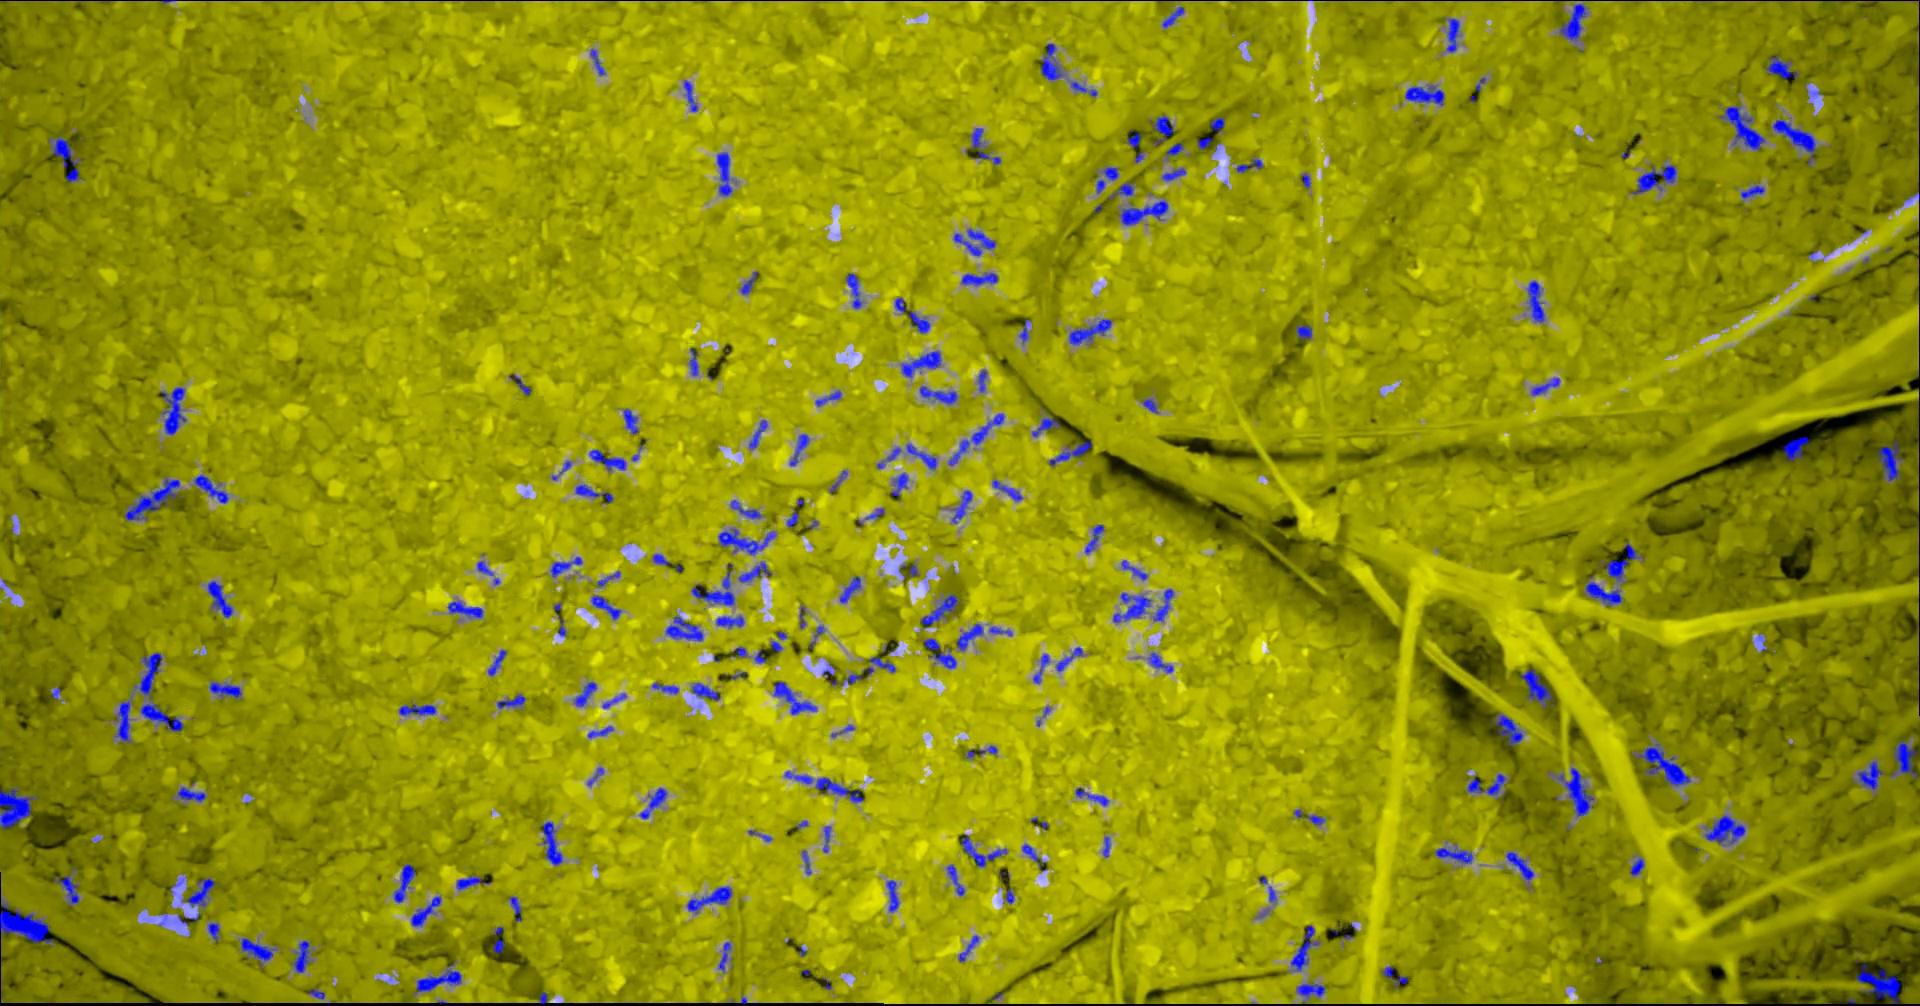ant: (133, 652, 183, 730), (949, 413, 1003, 464), (783, 770, 863, 801), (123, 478, 182, 520), (1636, 743, 1690, 785), (1771, 118, 1816, 165), (1718, 105, 1764, 149), (691, 561, 734, 605), (1855, 964, 1900, 1005), (1556, 767, 1592, 815), (1603, 541, 1643, 580), (841, 655, 895, 685), (0, 788, 38, 828), (717, 528, 775, 554), (960, 835, 1006, 866), (773, 681, 817, 714), (48, 136, 79, 182), (1630, 164, 1676, 194), (415, 962, 460, 992), (1519, 668, 1553, 708), (919, 593, 957, 627), (1290, 925, 1318, 970), (894, 297, 930, 333), (160, 386, 185, 434), (686, 887, 731, 913), (952, 227, 996, 255), (1120, 199, 1167, 225), (1704, 814, 1745, 843), (969, 127, 1001, 164), (1583, 575, 1622, 606), (1112, 592, 1150, 622), (1068, 318, 1111, 344), (1048, 439, 1091, 466), (1876, 439, 1903, 480), (1491, 713, 1523, 746), (193, 474, 229, 503), (240, 937, 276, 967), (902, 351, 940, 377), (923, 638, 956, 668), (1893, 739, 1919, 779), (1559, 3, 1586, 39), (665, 615, 703, 640), (182, 878, 215, 907), (207, 580, 232, 617), (541, 821, 563, 864), (410, 895, 439, 926), (392, 864, 415, 902), (1465, 774, 1505, 795), (639, 788, 665, 818), (588, 448, 625, 470), (1505, 851, 1533, 879), (1404, 85, 1443, 105), (905, 443, 936, 469), (1857, 760, 1882, 790), (53, 874, 79, 904), (1040, 43, 1062, 79), (1526, 279, 1544, 323), (1765, 55, 1797, 79), (956, 622, 983, 650), (590, 594, 621, 619), (919, 385, 957, 404), (575, 484, 613, 503), (990, 479, 1022, 500), (1152, 588, 1173, 620), (1782, 434, 1808, 460), (1021, 843, 1046, 870), (951, 490, 971, 523), (716, 152, 731, 196), (550, 556, 582, 577), (738, 561, 770, 582), (1055, 647, 1082, 671), (114, 699, 130, 741), (1297, 982, 1324, 1005), (447, 600, 483, 617), (1434, 846, 1472, 862), (1153, 114, 1173, 145), (789, 433, 808, 465), (208, 681, 241, 699), (1076, 788, 1109, 805), (573, 681, 596, 706), (1096, 166, 1117, 193), (946, 864, 964, 895), (748, 419, 767, 448), (730, 499, 759, 518), (1382, 967, 1407, 988), (846, 272, 861, 307), (839, 575, 860, 602), (957, 935, 978, 962), (1031, 417, 1059, 436), (1084, 525, 1103, 553), (292, 940, 309, 972), (1121, 560, 1147, 580), (1148, 652, 1173, 672), (1032, 653, 1049, 683), (1531, 377, 1559, 395), (691, 682, 719, 700), (1107, 180, 1133, 199), (1293, 809, 1324, 824), (456, 875, 490, 889), (961, 272, 997, 285), (488, 649, 505, 674), (683, 79, 697, 111), (1162, 6, 1183, 27), (509, 373, 530, 395), (1446, 18, 1459, 52), (397, 704, 436, 715), (177, 786, 204, 801), (815, 390, 841, 406), (717, 941, 731, 970), (589, 48, 604, 75), (1070, 81, 1097, 97), (890, 473, 908, 495), (965, 746, 997, 758), (808, 625, 824, 649), (497, 694, 524, 708), (740, 271, 757, 293), (1740, 184, 1764, 199), (886, 879, 898, 911), (597, 570, 618, 587), (623, 408, 637, 433), (1236, 159, 1262, 171), (602, 694, 626, 708), (770, 631, 786, 652), (715, 615, 744, 626), (508, 895, 521, 921), (491, 926, 504, 951), (1161, 168, 1185, 180), (651, 682, 678, 694), (587, 725, 613, 737), (1164, 142, 1183, 158), (822, 664, 837, 683), (1018, 318, 1030, 342), (898, 563, 917, 575), (822, 826, 830, 852), (1209, 117, 1224, 132), (1295, 324, 1310, 339), (476, 561, 493, 575), (1128, 130, 1140, 147), (651, 553, 669, 565), (1630, 857, 1643, 875), (207, 922, 218, 941), (801, 850, 810, 874), (690, 347, 697, 375), (1142, 398, 1157, 412), (977, 370, 985, 392), (1197, 135, 1211, 149), (989, 626, 1011, 635), (786, 511, 797, 527), (307, 988, 324, 998), (1102, 836, 1110, 857), (538, 991, 547, 1005)
